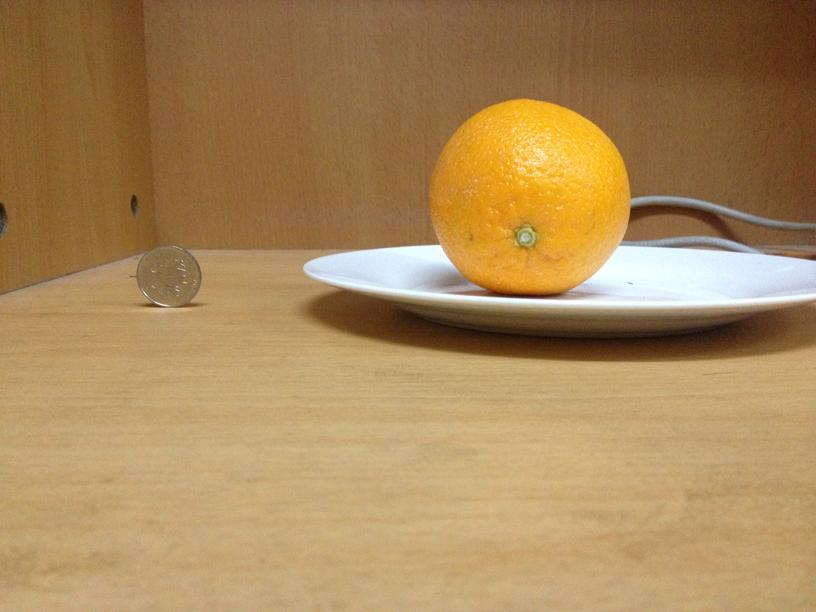coin: (133, 244, 203, 306)
orange: (426, 96, 632, 292)
